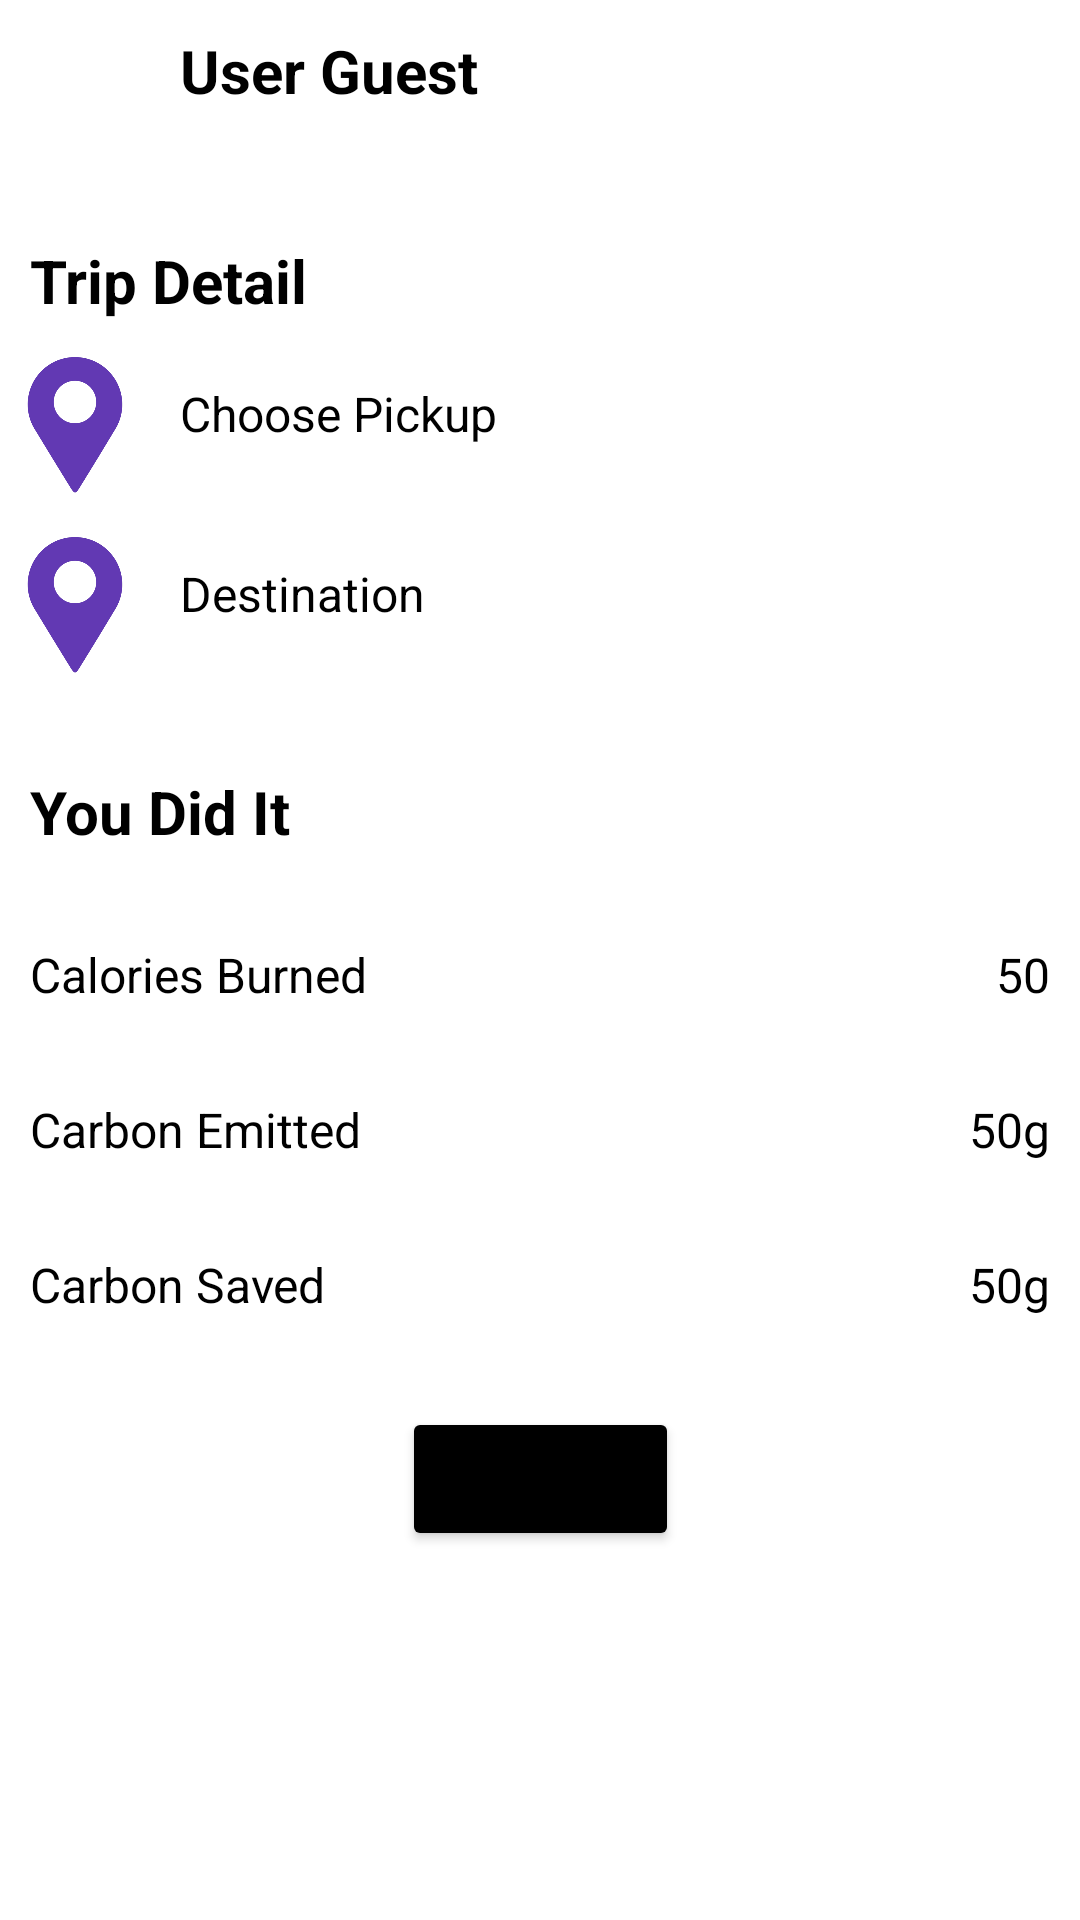

Screen size 1080px x 1920px. Icon name, then its box in pixels as (x1, y1, x2, y2):
place: (27, 357, 123, 493), (27, 537, 123, 673)
